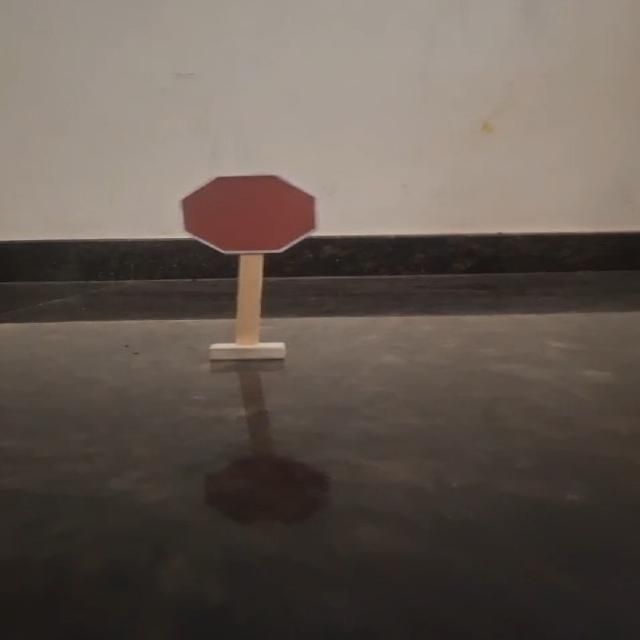Stop: (157, 165, 343, 261)
